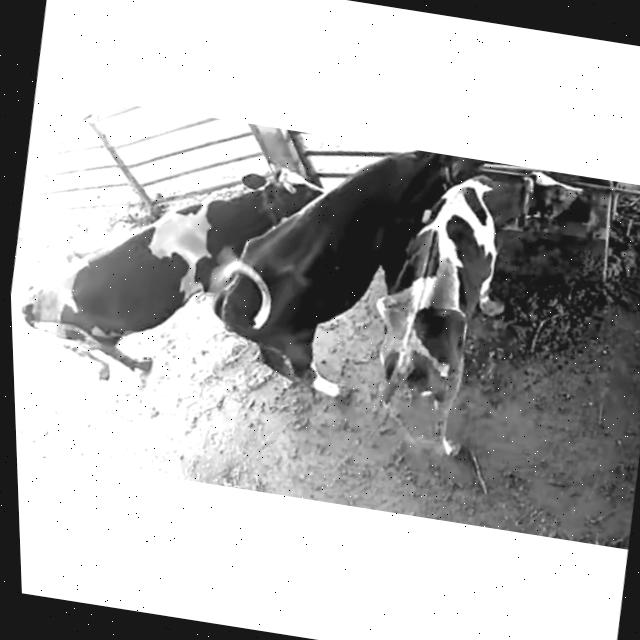drink: (467, 162, 595, 245), (368, 144, 515, 216)
